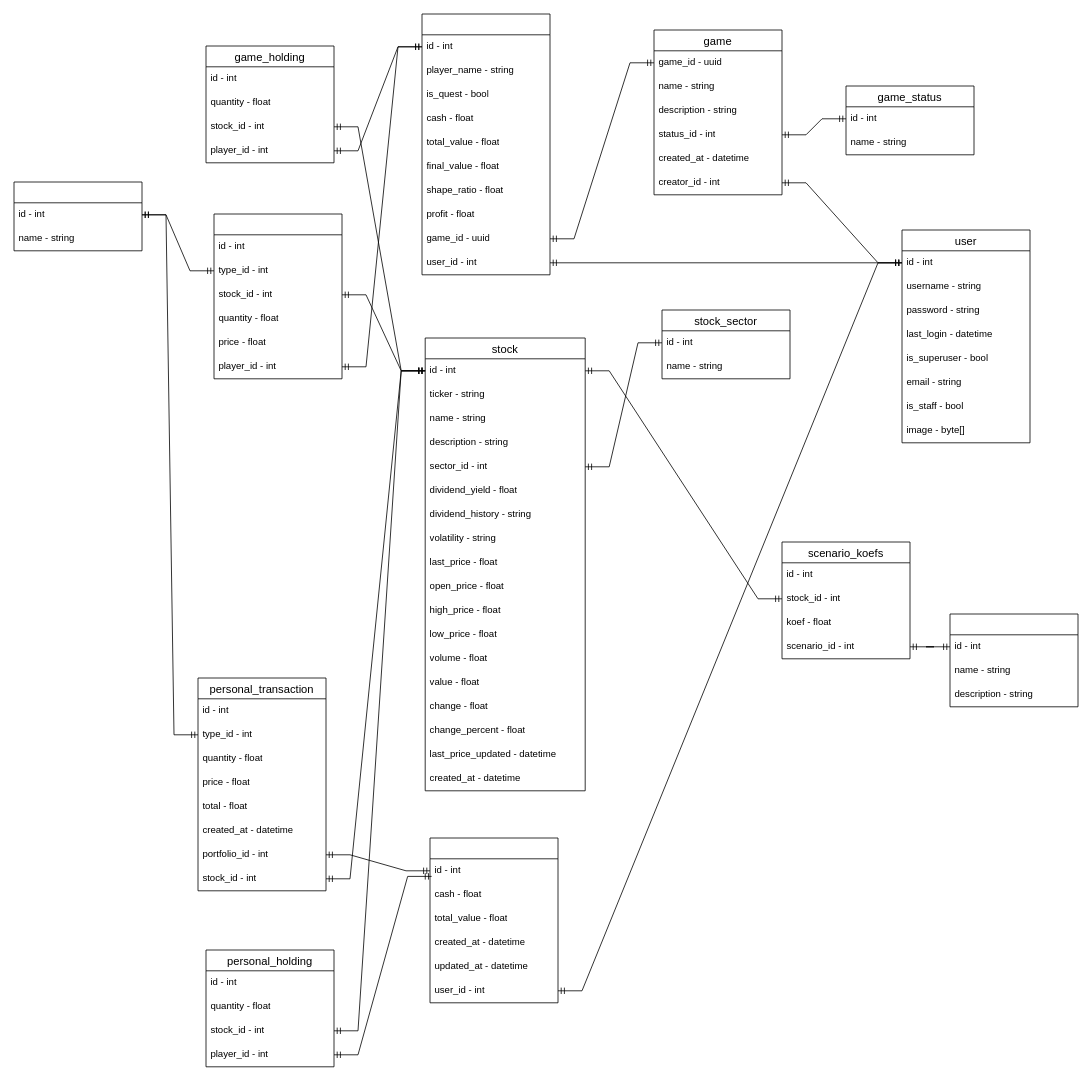
Some shapes in this 1092 by 1083 pixel diagram are drawn without their labels. Each missing label, with the box of its shape:
game_player: (421, 13, 550, 275)
game_transaction: (213, 213, 342, 379)
personal_portfolio: (429, 837, 558, 1003)
scenario: (949, 613, 1078, 707)
transaction_type: (13, 181, 142, 251)
